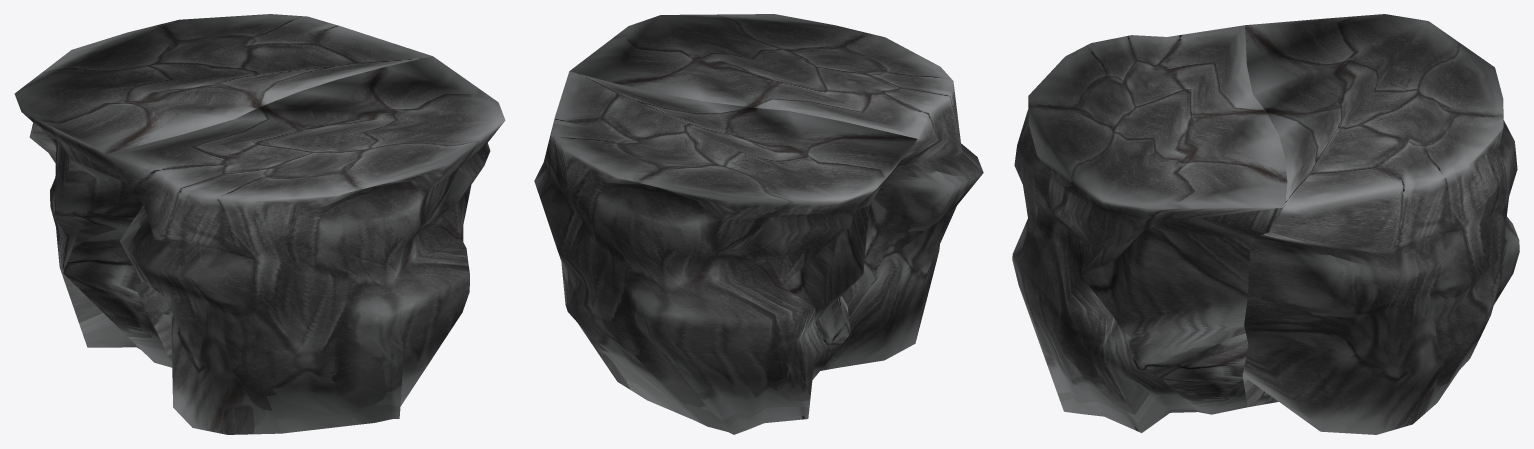
The model's file is Rock_2_002.fbx.
The picture shows the model from 3 angles, left to right: view 1: azimuth 30°, elevation 25°; view 2: azimuth 150°, elevation 25°; view 3: azimuth 270°, elevation 25°; orthographic projection. The views are drawn at different scales.
Parts seen in each view (by area): view 1: rock2; view 2: rock2; view 3: rock2.
Boxes of the visible parts, x1=… form: rock2: x1=14, y1=14, x2=505, y2=434; rock2: x1=534, y1=14, x2=983, y2=434; rock2: x1=1012, y1=14, x2=1519, y2=434.
Size of the model in its own units: 2666 by 1766 by 2943.
